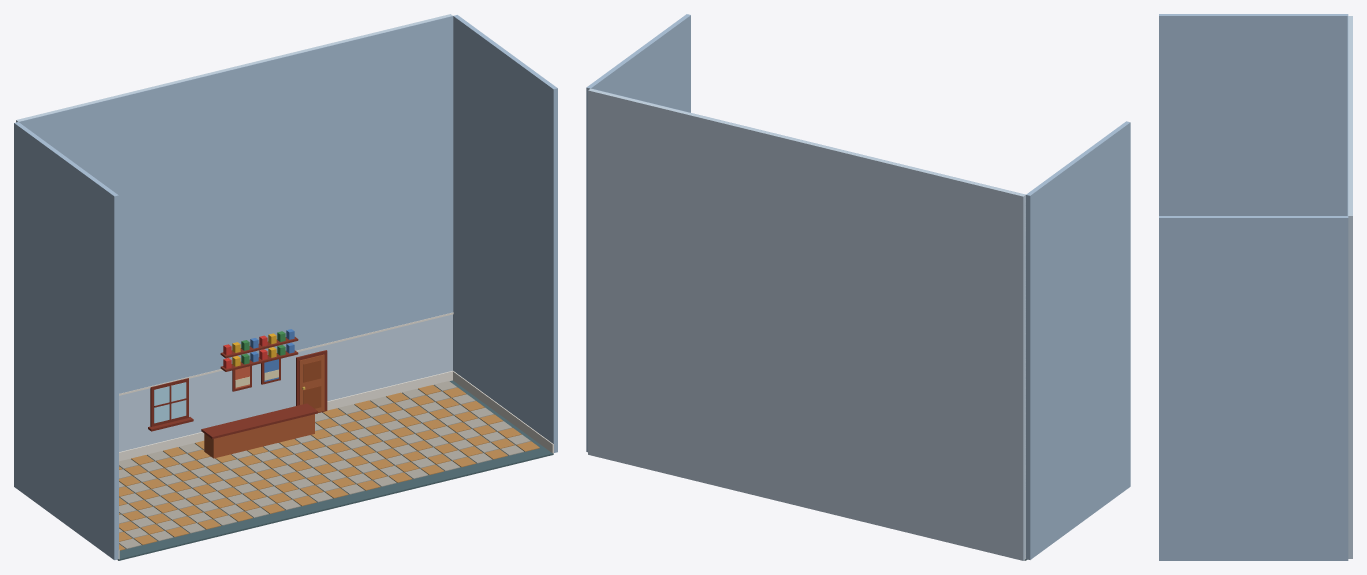
The model's file is room_azul_shop.glb.
The picture shows the model from 3 angles, left to right: view 1: azimuth 30°, elevation 25°; view 2: azimuth 150°, elevation 25°; view 3: azimuth 270°, elevation 25°; orthographic projection. The views are drawn at different scales.
Visible parts, largest first — view 1: room; view 2: room; view 3: room.
Part boxes in pixels (x1,y1,x2,y2): room: (14,14,557,560); room: (586,14,1130,560); room: (1159,14,1352,560).
Size of the model in its own units: 30.6 by 24.11 by 12.3.
